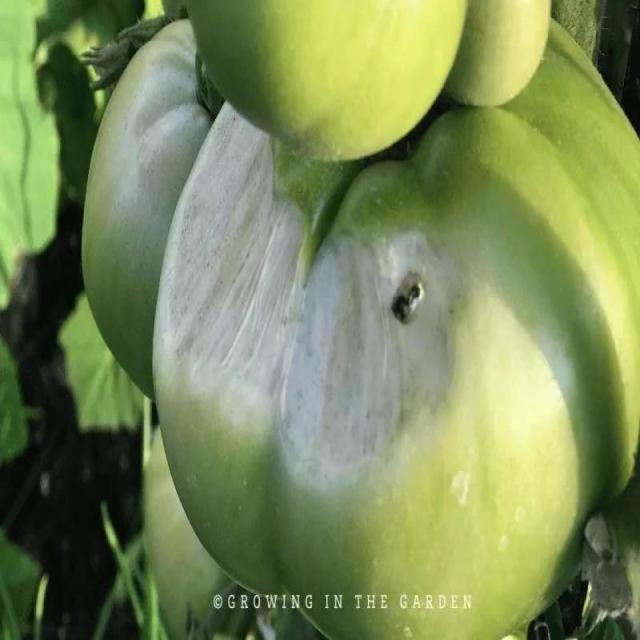Sunscald Fruit: (83, 102, 213, 274)
